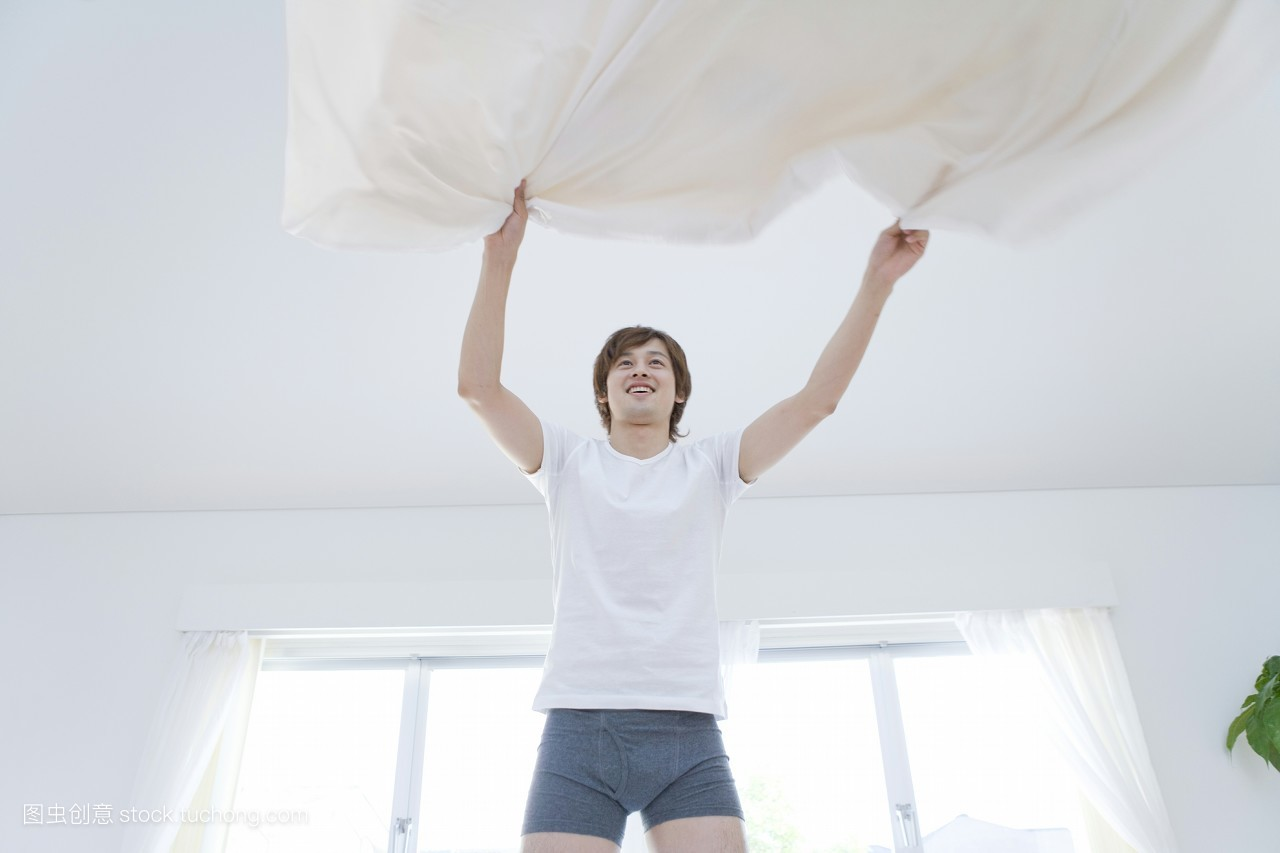handsup: (450, 174, 938, 847)
